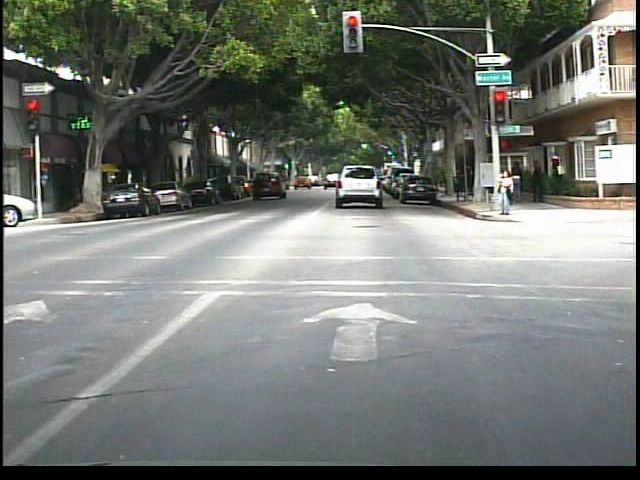person: (491, 167, 516, 218), (547, 149, 568, 196), (527, 157, 546, 206), (511, 157, 527, 205)
